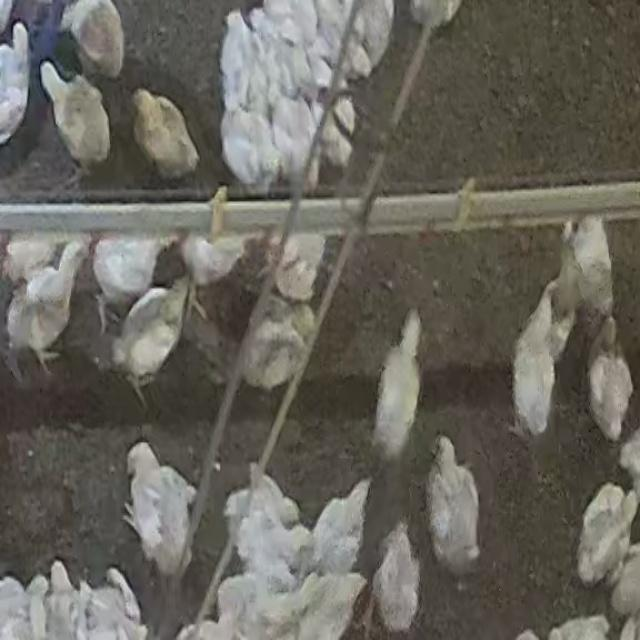chicken: (5, 237, 89, 383), (126, 440, 197, 581), (509, 284, 566, 440), (115, 278, 194, 383), (430, 432, 483, 586), (374, 308, 428, 452), (41, 62, 110, 170), (238, 299, 311, 393), (129, 86, 198, 178), (308, 480, 371, 578), (219, 105, 288, 194), (586, 317, 633, 444), (89, 235, 161, 315), (576, 483, 632, 585), (61, 1, 125, 78), (80, 566, 144, 640), (569, 216, 614, 319), (375, 524, 418, 631), (300, 573, 368, 640), (230, 514, 305, 572), (0, 21, 35, 145), (225, 471, 299, 528), (319, 0, 371, 78), (271, 234, 321, 305), (277, 94, 316, 185), (316, 95, 358, 172), (44, 560, 84, 638), (185, 234, 247, 284), (2, 235, 60, 288), (220, 12, 252, 107), (0, 570, 41, 639)
